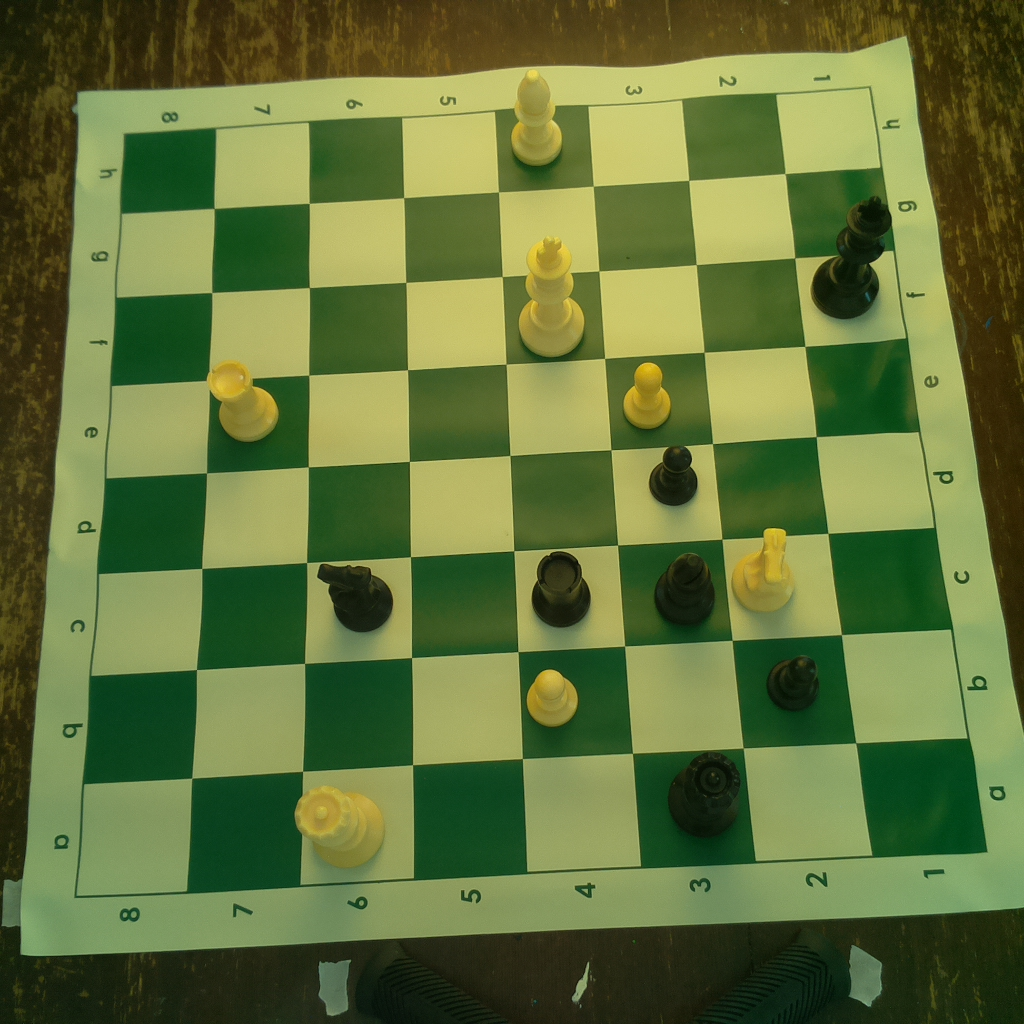black_bishop: (654, 548, 719, 625)
black_king: (807, 191, 890, 319)
black_knight: (310, 549, 399, 634)
black_pawn: (763, 645, 825, 713), (646, 443, 702, 508)
black_queen: (667, 744, 744, 841)
black_rook: (527, 543, 594, 634)
file_a: (71, 740, 990, 897)
file_b: (81, 631, 968, 782)
file_c: (92, 528, 951, 673)
file_d: (99, 430, 937, 574)
file_e: (108, 339, 920, 479)
file_f: (112, 251, 910, 386)
file_g: (115, 170, 894, 296)
file_h: (121, 88, 881, 214)
outline: (73, 87, 992, 895)
rank_1: (776, 87, 989, 861)
rank_2: (683, 93, 871, 864)
rank_3: (586, 97, 757, 871)
rank_4: (493, 104, 644, 873)
rank_5: (402, 110, 527, 880)
rank_6: (296, 115, 416, 880)
rank_7: (186, 122, 308, 892)
rank_8: (72, 128, 216, 895)
white_bishop: (507, 66, 563, 167)
white_king: (515, 228, 588, 360)
white_knight: (729, 522, 797, 613)
white_pawn: (621, 356, 677, 435), (521, 664, 581, 727)
white_queen: (290, 780, 388, 870)
white_rook: (206, 356, 279, 444)
